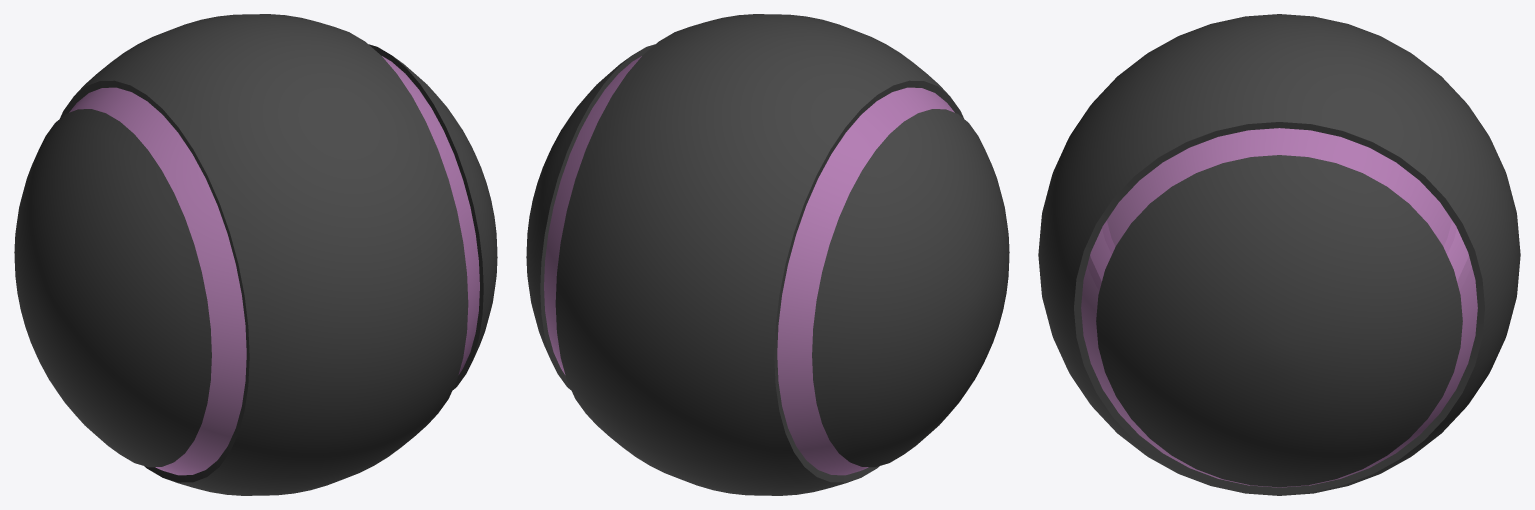
File: purple_orb.fbx
3 views of the same model, side by side, from view 1: azimuth 30°, elevation 25°; view 2: azimuth 150°, elevation 25°; view 3: azimuth 270°, elevation 25° (orthographic).
Visible parts, largest first — view 1: purple_orb; view 2: purple_orb; view 3: purple_orb.
Part boxes in pixels (x1,y1,x2,y2): purple_orb: (14, 14, 497, 495); purple_orb: (526, 14, 1009, 495); purple_orb: (1038, 14, 1520, 495).
Size of the model in its own units: 2.09 by 2.09 by 2.09.
